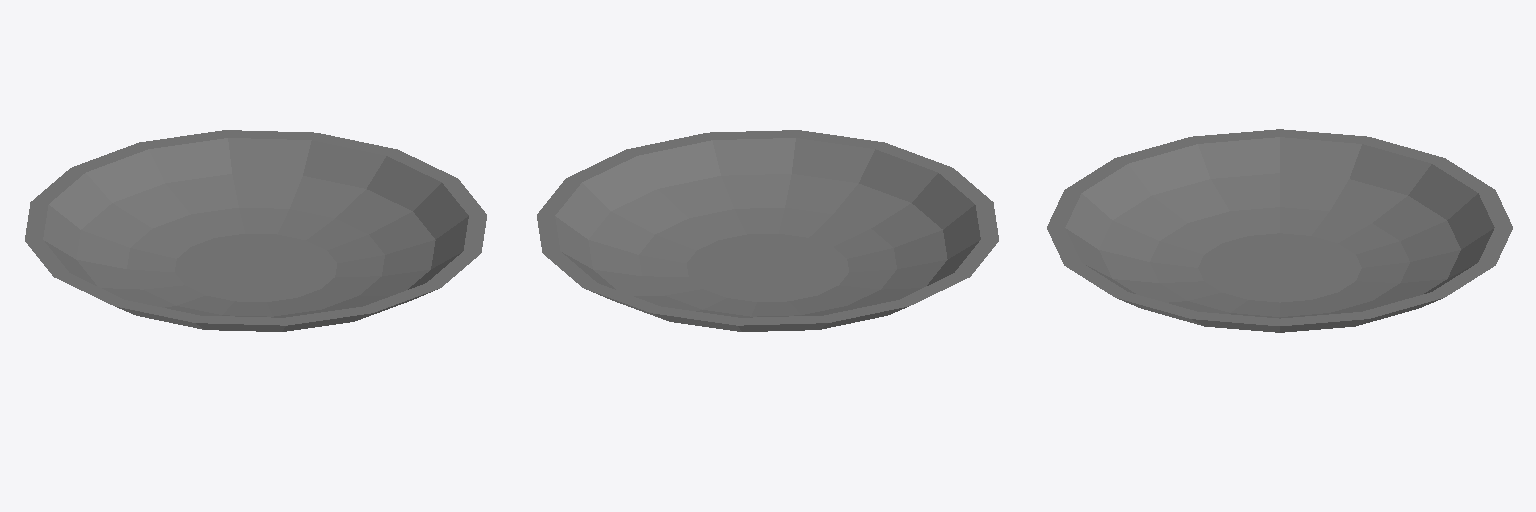
The model's file is Terracotta_Plate_LOD1_OBJ.obj.
3 views of the same model, side by side, from view 1: azimuth 30°, elevation 25°; view 2: azimuth 150°, elevation 25°; view 3: azimuth 270°, elevation 25° (orthographic).
Visible parts, largest first — view 1: CylinderFBXASC046006; view 2: CylinderFBXASC046006; view 3: CylinderFBXASC046006.
Part boxes in pixels (bbox=[...]): CylinderFBXASC046006: bbox=[25, 130, 486, 331]; CylinderFBXASC046006: bbox=[537, 130, 998, 331]; CylinderFBXASC046006: bbox=[1047, 129, 1512, 332].
Bounding box in the file's own units: 44.52 × 5.92 × 44.52.